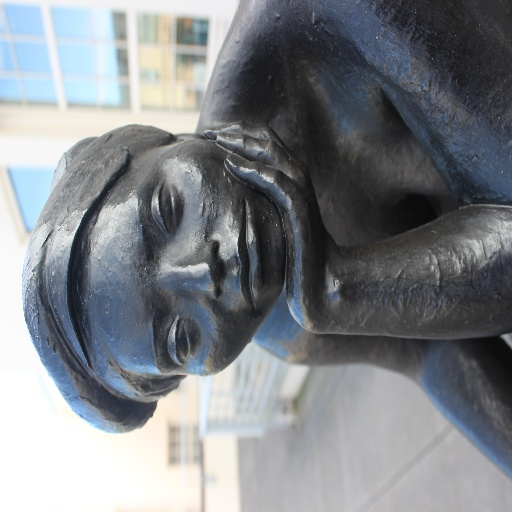hand: (204, 120, 325, 333)
